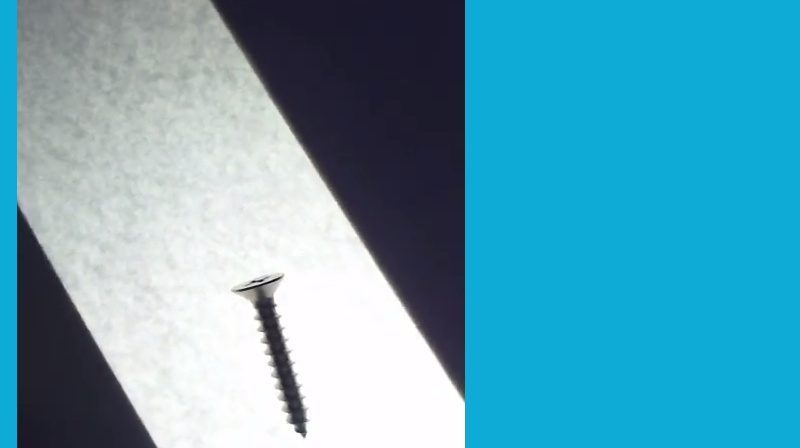S001: (230, 266, 315, 439)
